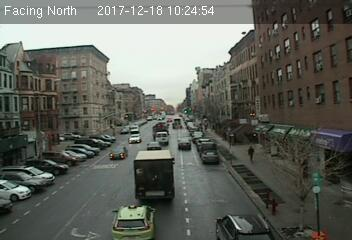car: (110, 203, 158, 239), (216, 211, 271, 240), (201, 150, 219, 163), (108, 146, 129, 157), (177, 137, 192, 149), (129, 133, 142, 144)
truck: (154, 131, 169, 144)
ups: (133, 149, 176, 205)
